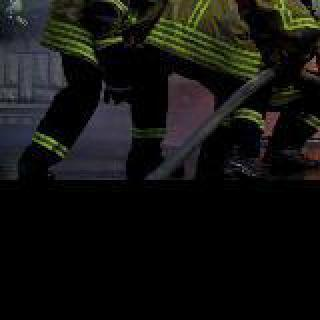fire: (316, 0, 320, 56)
